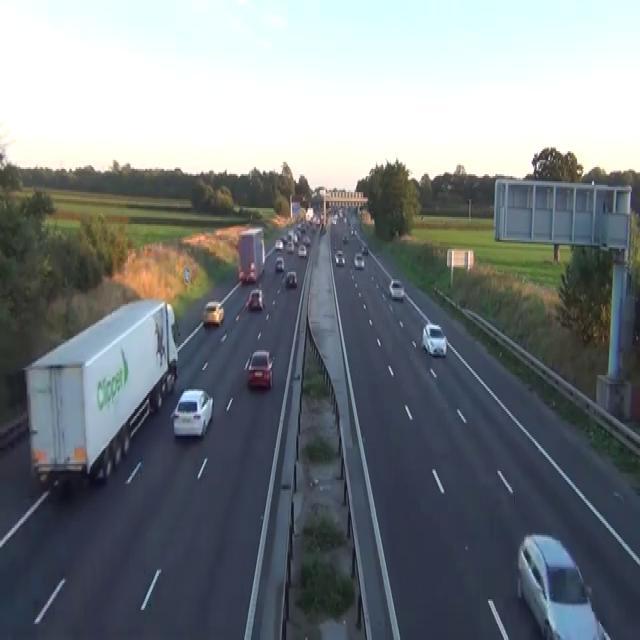Car: (516, 532, 607, 638), (170, 388, 213, 439), (244, 348, 274, 389), (421, 322, 447, 357), (202, 300, 224, 326), (246, 288, 263, 309), (389, 277, 405, 299), (285, 270, 297, 288), (246, 263, 256, 283), (353, 250, 364, 268), (334, 249, 345, 265), (275, 256, 284, 270), (297, 244, 306, 258), (274, 238, 283, 249), (286, 240, 294, 252), (238, 268, 245, 281), (312, 215, 320, 226), (302, 235, 310, 245), (319, 224, 326, 235), (361, 244, 368, 254), (280, 234, 287, 243), (342, 233, 348, 242), (331, 215, 336, 224), (350, 228, 355, 235)
Truck: (22, 297, 179, 487), (236, 225, 265, 282)
